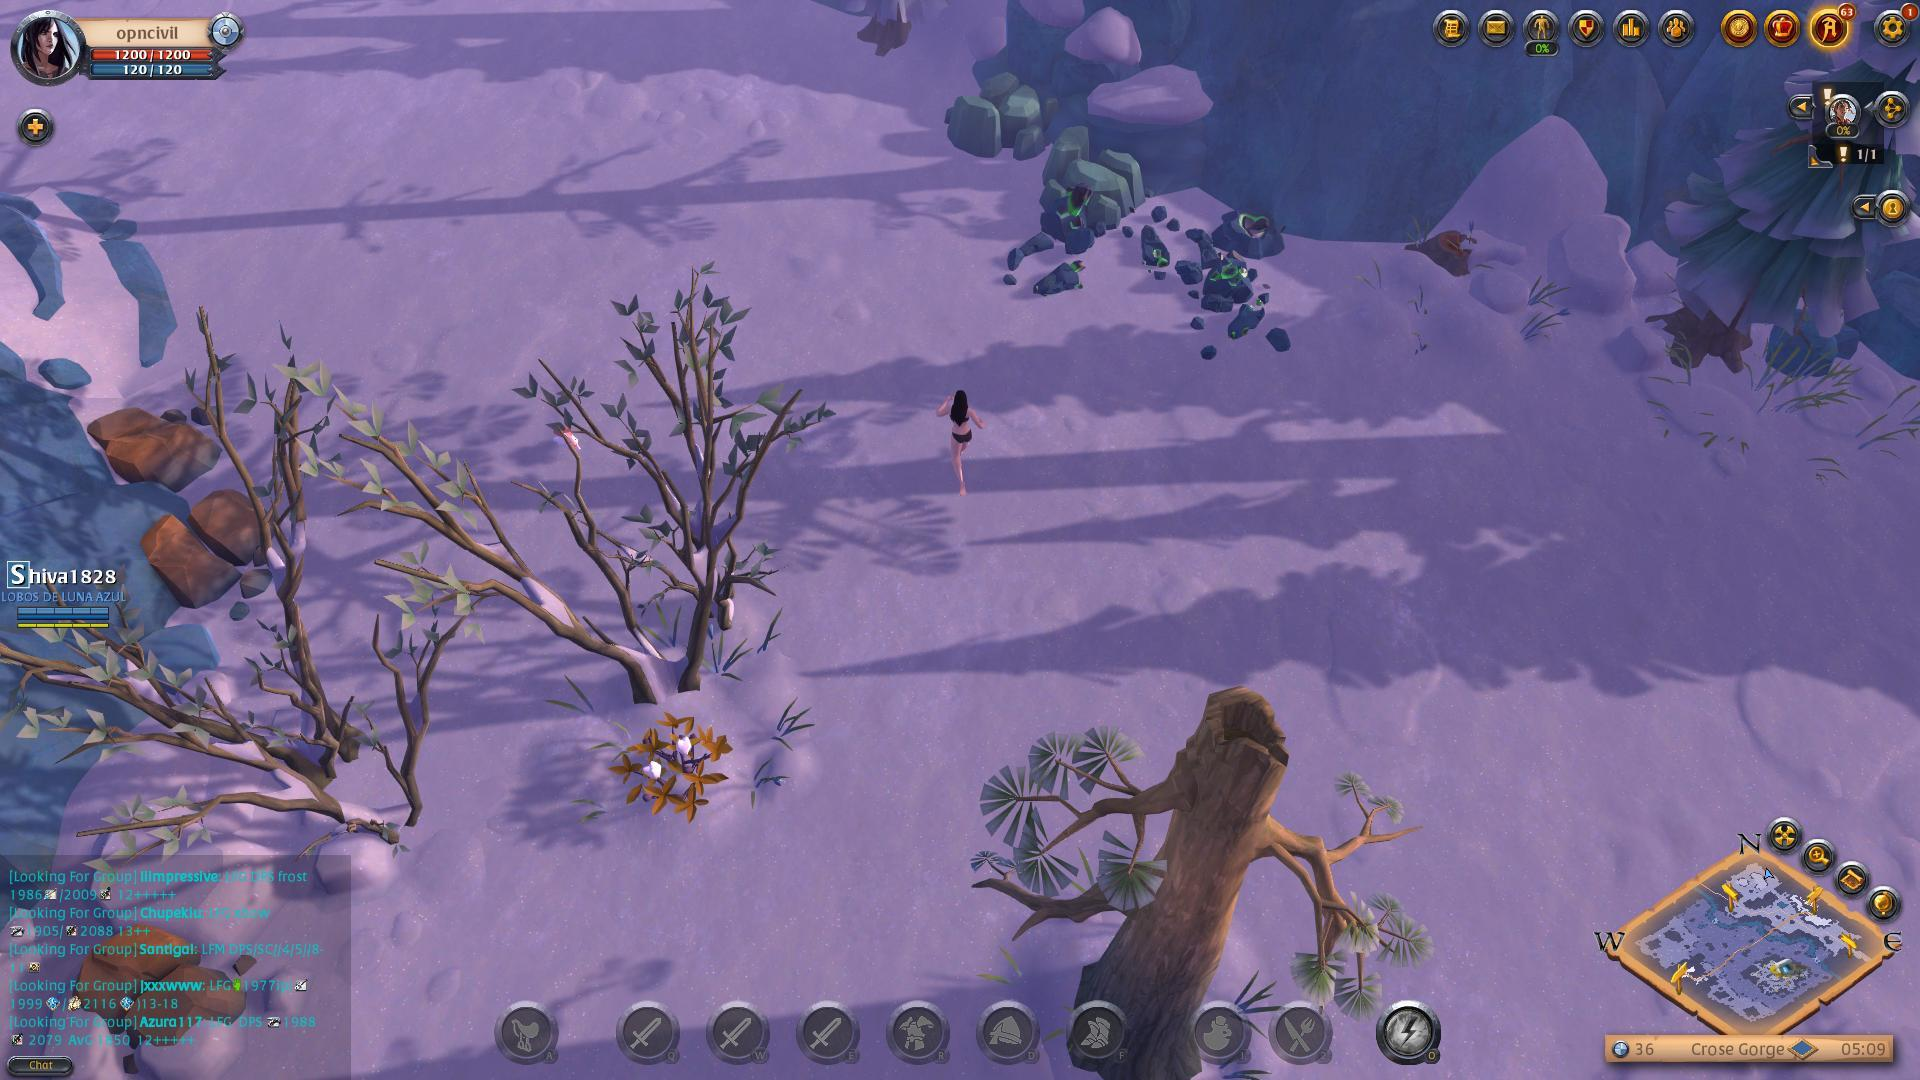cotton: (605, 704, 738, 819)
limestone: (136, 481, 265, 599), (79, 407, 222, 495)
sandstone: (936, 70, 1054, 164), (1046, 120, 1145, 191)
tin_ore: (1025, 182, 1106, 253)
